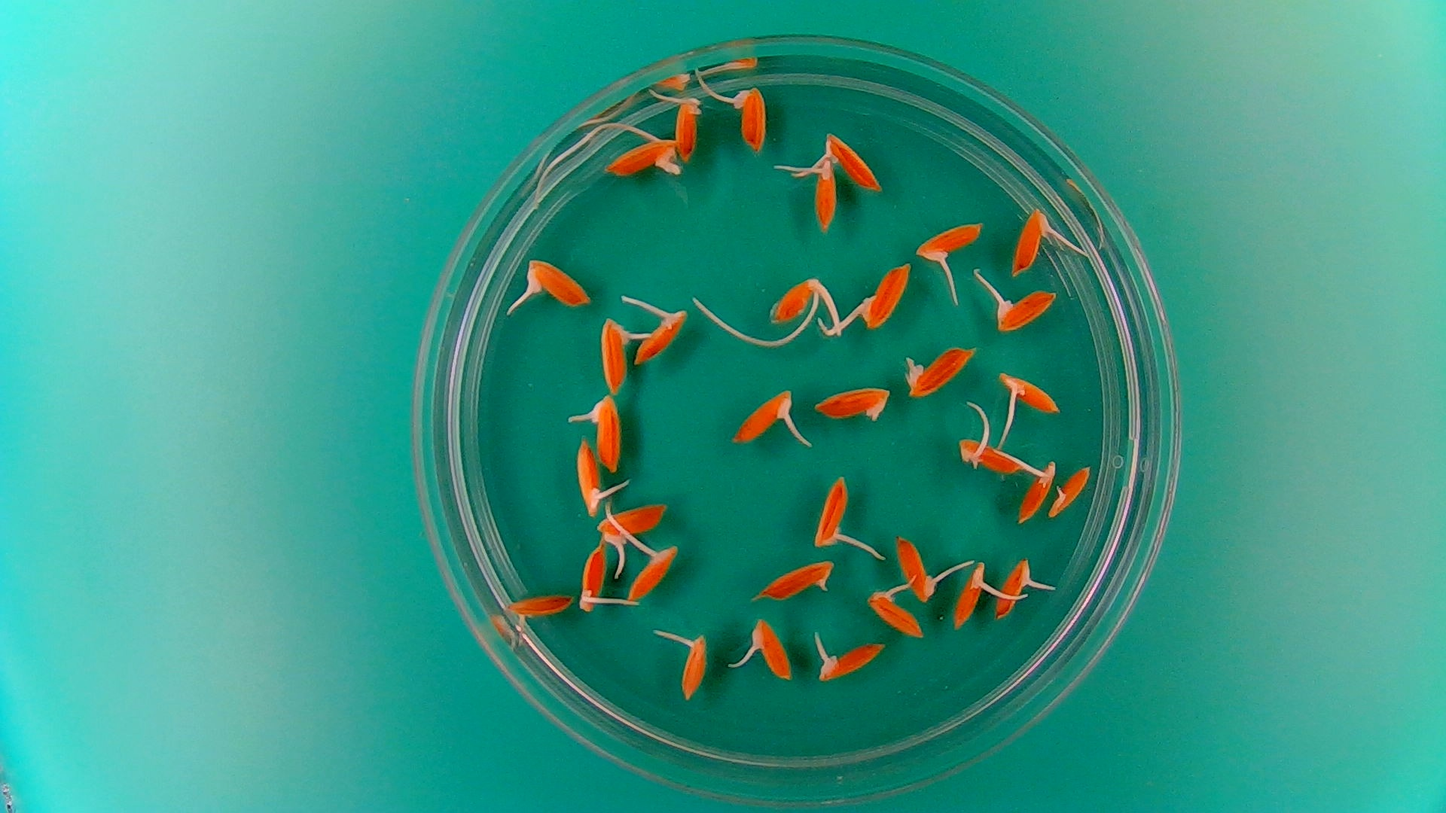no: (752, 556, 836, 604), (810, 382, 893, 425)
yes: (908, 340, 978, 398), (729, 391, 799, 448), (859, 260, 914, 331), (523, 257, 593, 312), (824, 129, 886, 190), (811, 472, 859, 550), (624, 540, 680, 604), (602, 134, 680, 179), (763, 269, 825, 324), (634, 303, 688, 365), (895, 533, 944, 601), (1011, 206, 1054, 276), (990, 289, 1058, 333), (816, 638, 887, 680), (596, 504, 669, 544), (914, 221, 984, 262), (953, 559, 992, 630), (870, 591, 925, 641), (732, 81, 770, 152), (599, 316, 633, 394), (751, 620, 794, 681), (998, 375, 1061, 416), (994, 554, 1033, 620), (1017, 458, 1056, 524), (958, 434, 1023, 473), (592, 394, 624, 473), (1048, 463, 1093, 519), (575, 539, 608, 614), (572, 440, 604, 515), (670, 92, 703, 162), (679, 629, 709, 702), (505, 592, 575, 621), (813, 152, 839, 228)
